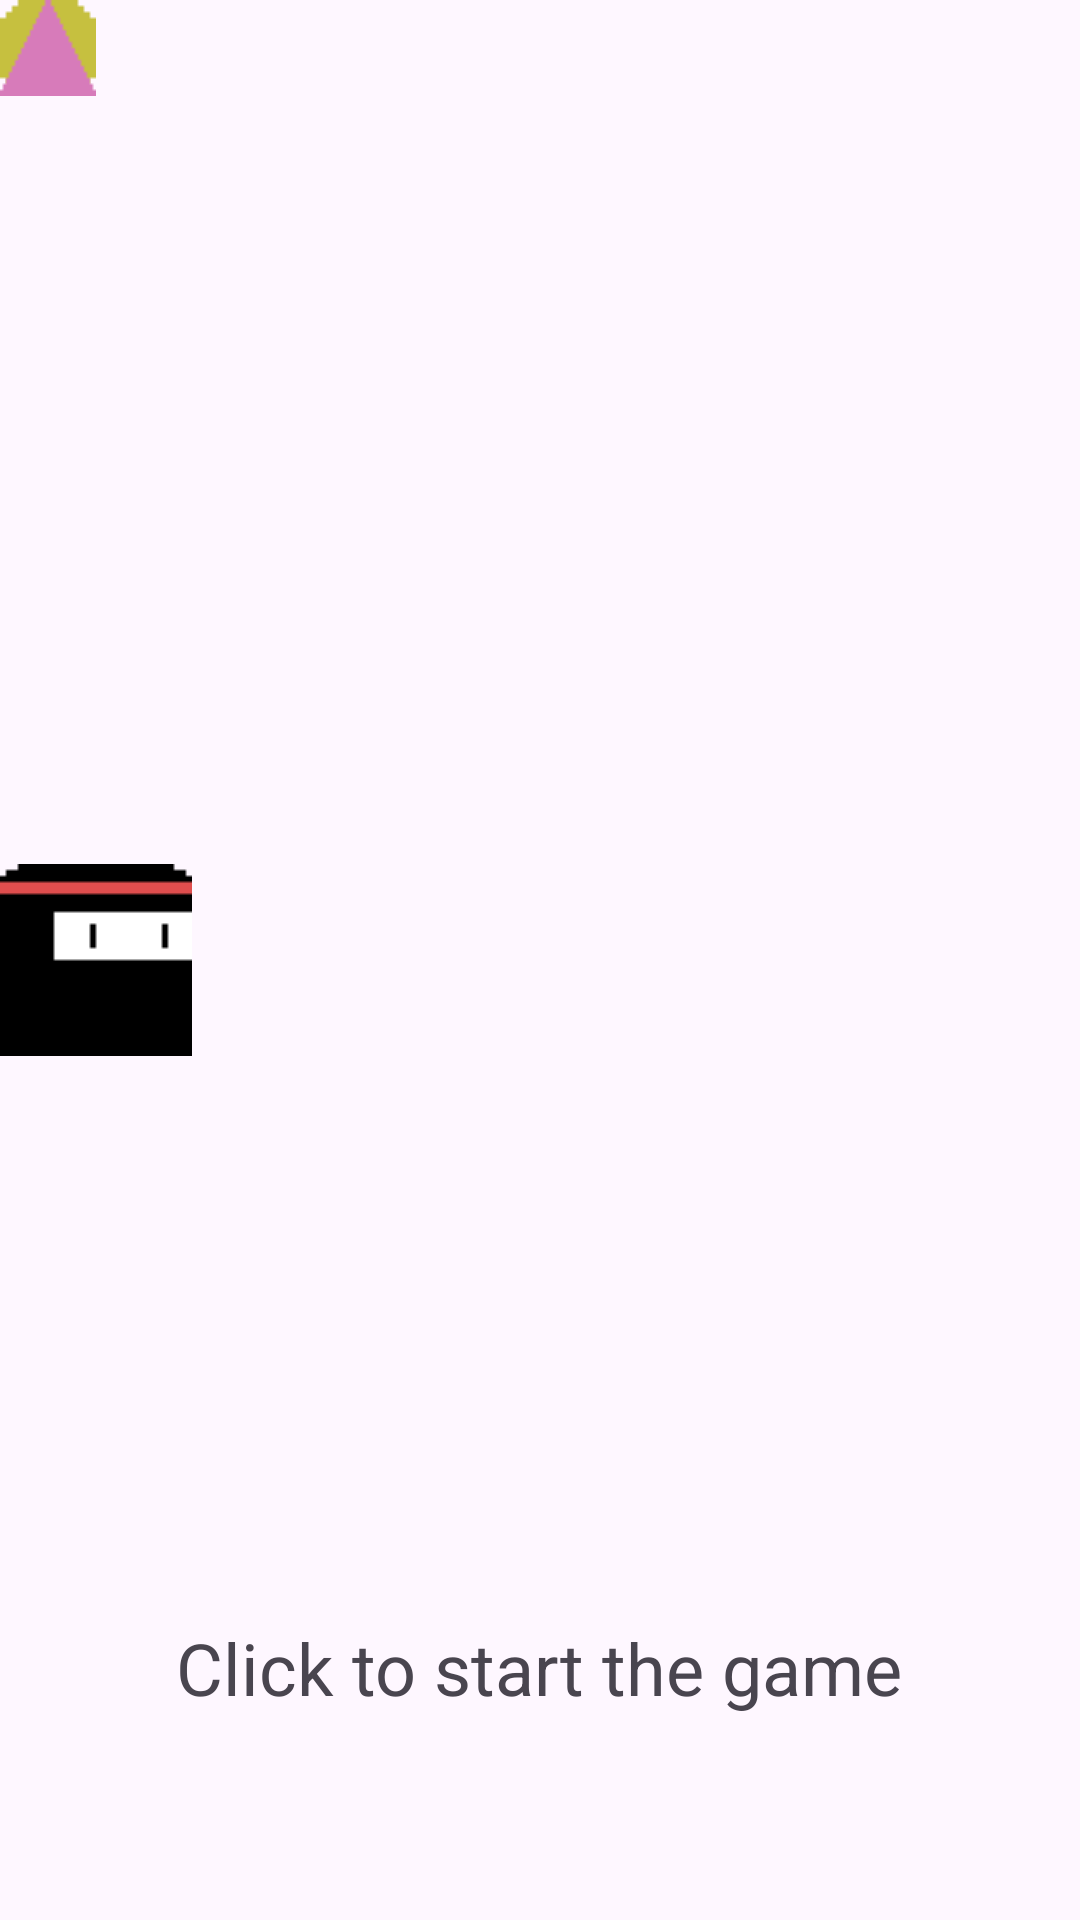

Point at icon controls on the screen. Image size 1080w x 1920h, points as [x,y].
chracter: [96,960]
